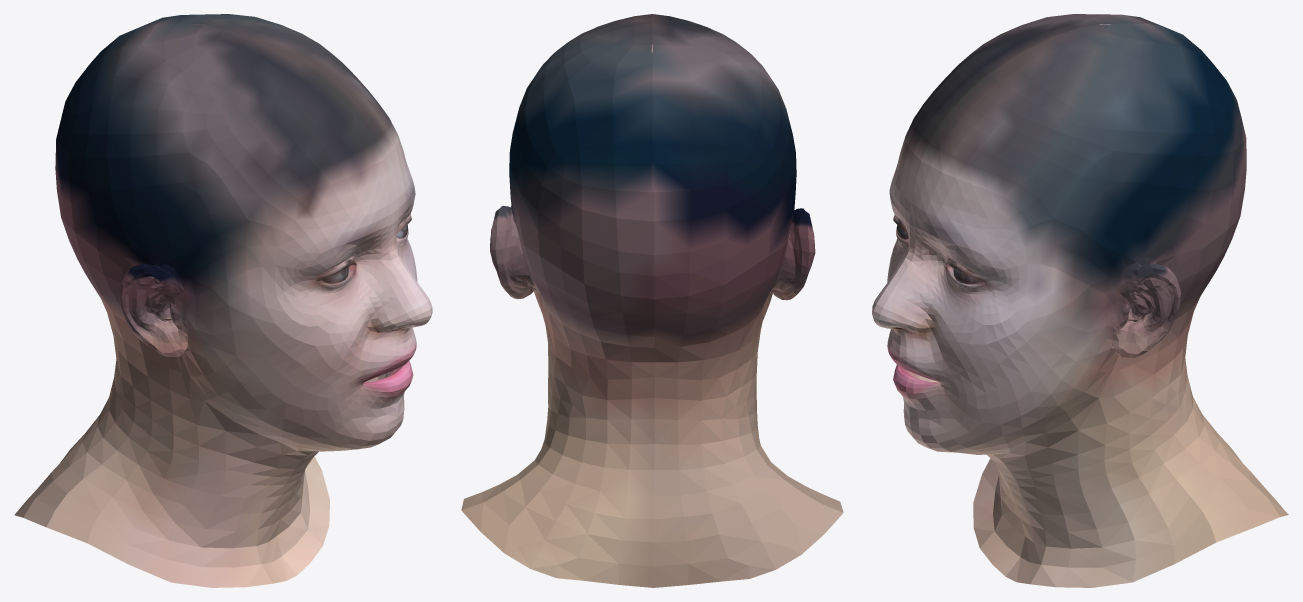
Rendered from deca.obj.
3 views of the same model, side by side, from view 1: azimuth 30°, elevation 25°; view 2: azimuth 150°, elevation 25°; view 3: azimuth 270°, elevation 25° (orthographic).
Visible parts, largest first — view 1: deca; view 2: deca; view 3: deca.
Part boxes in pixels (bbox=[...]): deca: bbox=[14, 14, 432, 587]; deca: bbox=[461, 14, 843, 587]; deca: bbox=[872, 14, 1288, 587].
Size of the model in its own units: 0.2118 by 0.3211 by 0.2287.
Materials: 1 (1 with a texture image).
